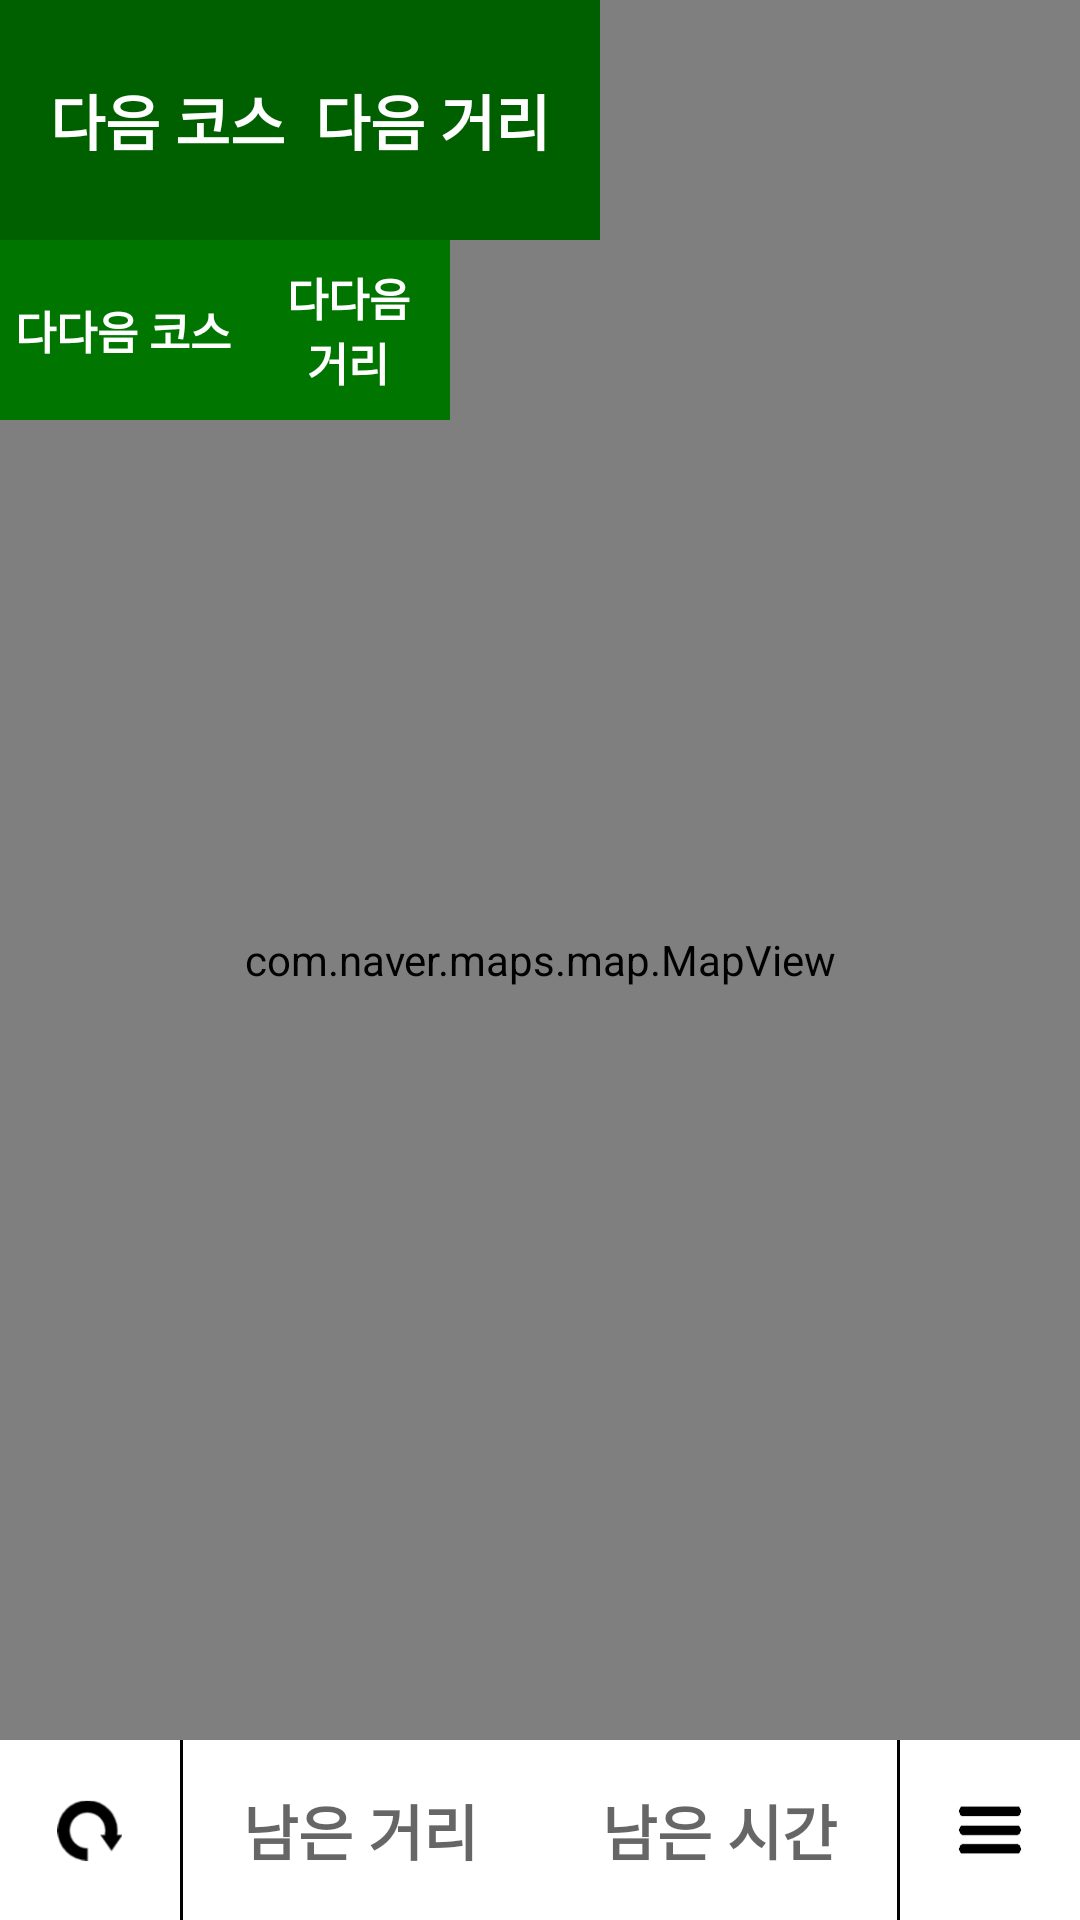

Icons on this 1080px x 1920px Android screen, each with the point to tap as (x=x, y=y):
list: (x=990, y=1830)
reset: (x=90, y=1830)
